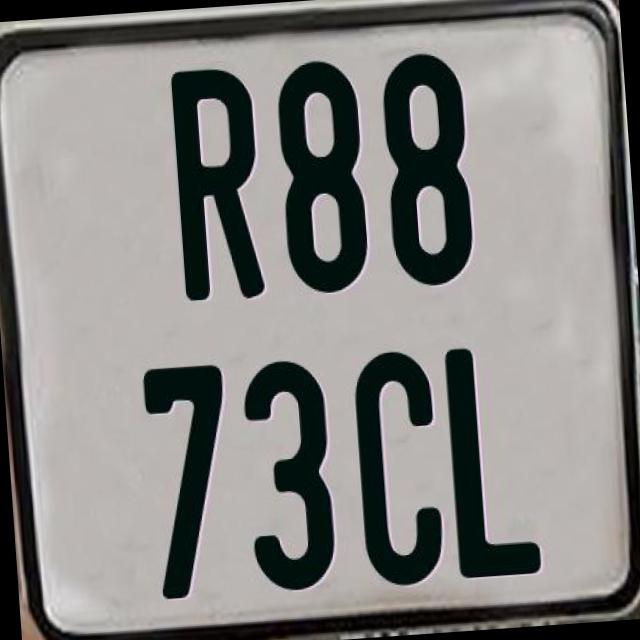3: (238, 356, 342, 591)
7: (138, 362, 238, 602)
8: (274, 52, 378, 290), (378, 49, 477, 289)
C: (352, 348, 454, 596)
L: (440, 339, 540, 576)
R: (166, 63, 266, 300)
